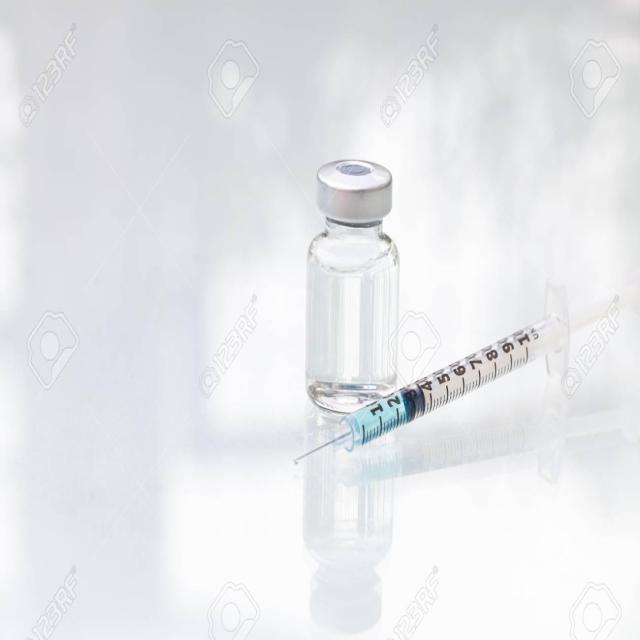B3: (338, 274, 630, 465), (302, 148, 406, 425)
